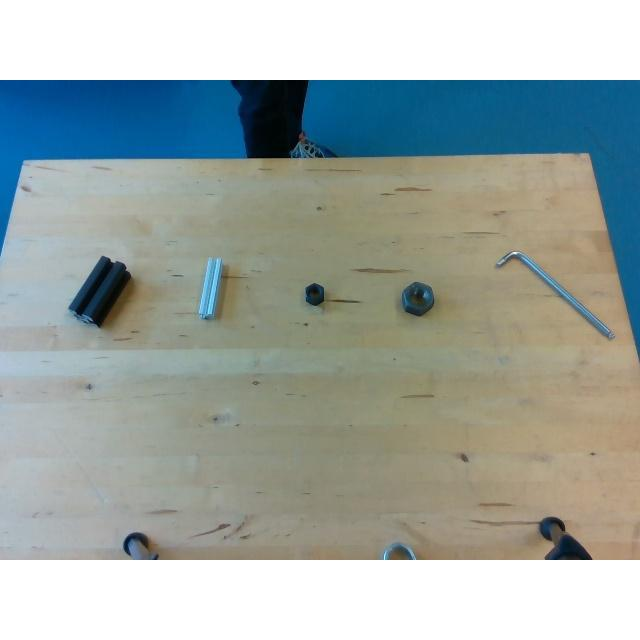AllenKey: (496, 249, 616, 339)
F20_20_G: (198, 258, 222, 318)
M20: (304, 284, 324, 304)
M30: (402, 282, 434, 314)
S40_40_B: (68, 256, 132, 326)
